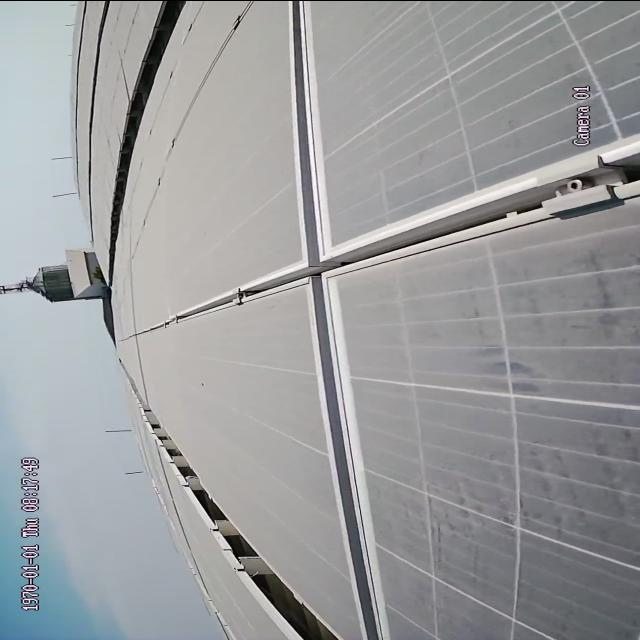interior panel: (135, 3, 631, 640)
outher panel: (124, 376, 339, 636), (110, 2, 185, 254)
